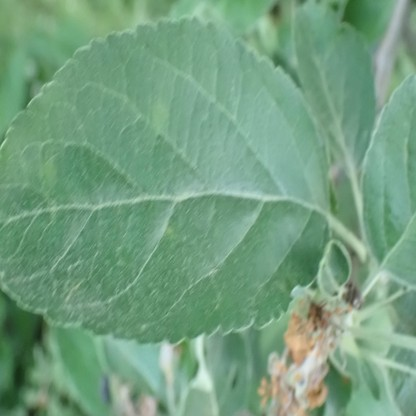powdery_mildew: (2, 232, 221, 340)
scab: (152, 98, 170, 134), (43, 159, 55, 196)
